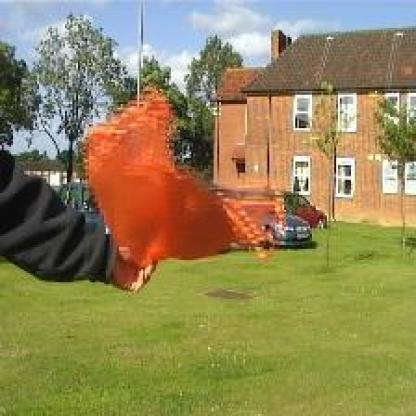other: (78, 102, 299, 265)
